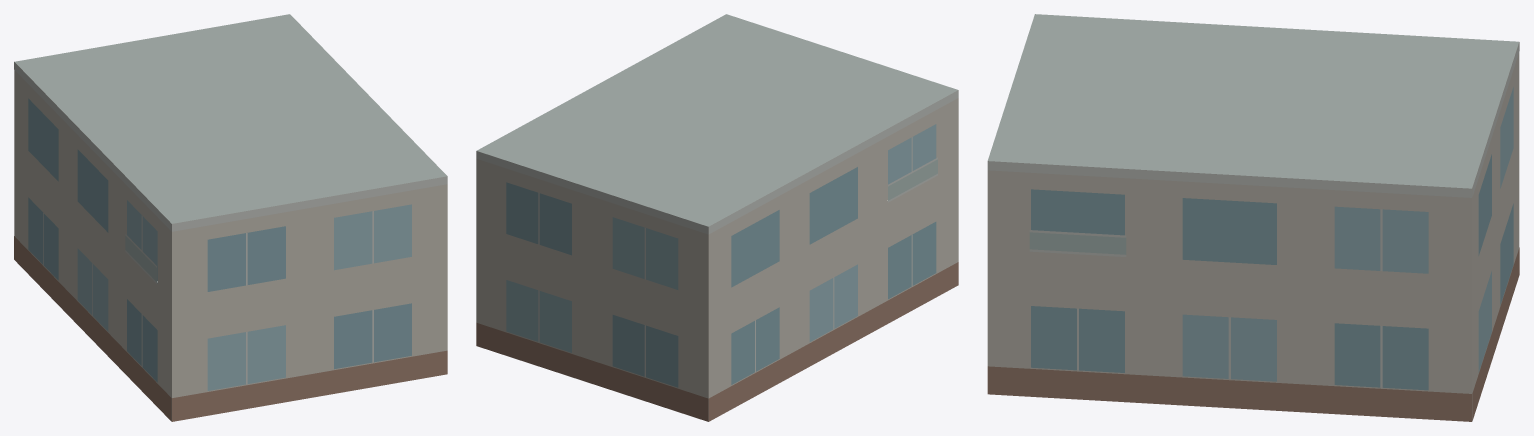
Rendered from survey-upis-32712332.glb.
3 views of the same model, side by side, from view 1: azimuth 30°, elevation 25°; view 2: azimuth 150°, elevation 25°; view 3: azimuth 270°, elevation 25° (orthographic). The views are drawn at different scales.
Visible parts, largest first — view 1: survey-upis-32712332.tmp; view 2: survey-upis-32712332.tmp; view 3: survey-upis-32712332.tmp.
Boxes of the visible parts, x1,y1,x2,y2 form: survey-upis-32712332.tmp: (14, 14, 447, 421); survey-upis-32712332.tmp: (476, 14, 958, 421); survey-upis-32712332.tmp: (987, 14, 1519, 421).
Size of the model in its own units: 9.81 by 6.1 by 12.62.
